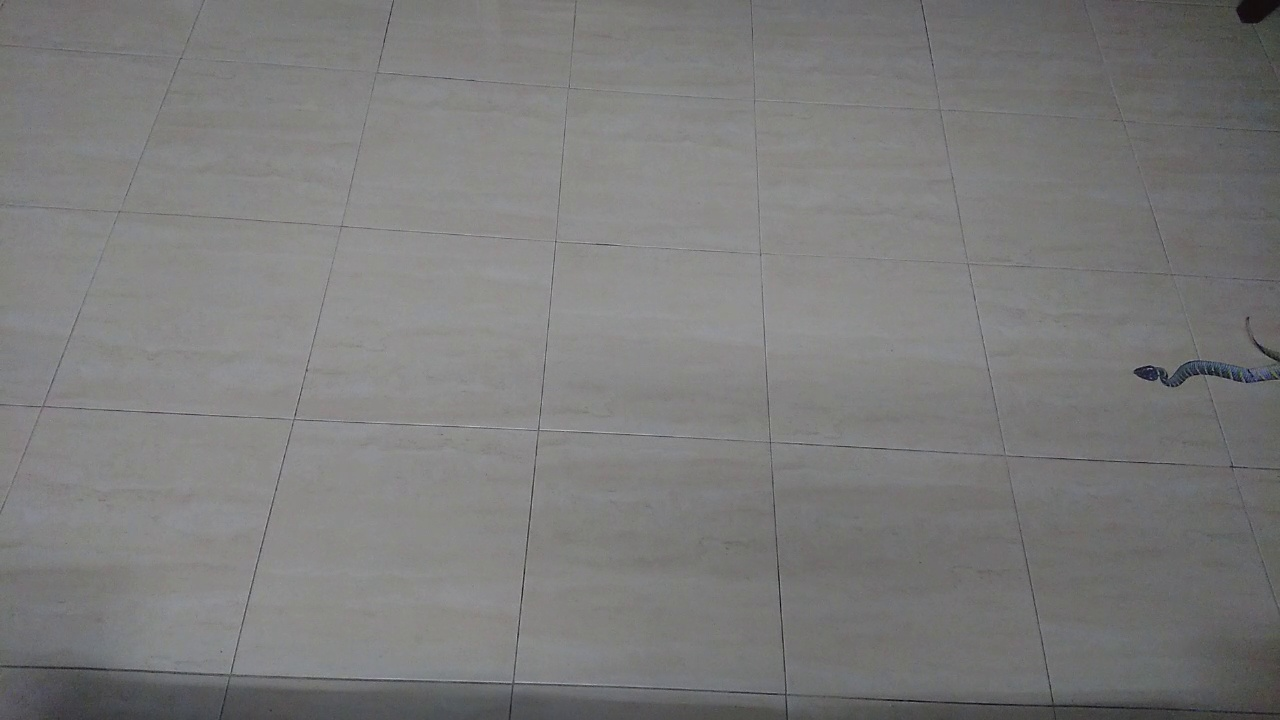snake: (1120, 302, 1280, 399)
